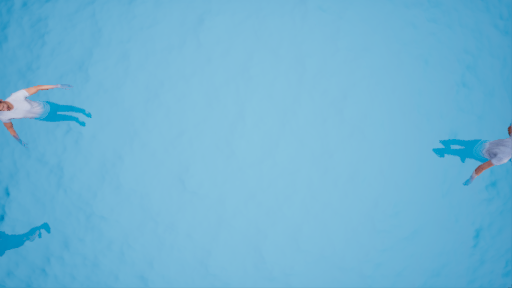person: (1, 89, 109, 137), (425, 121, 512, 179)
